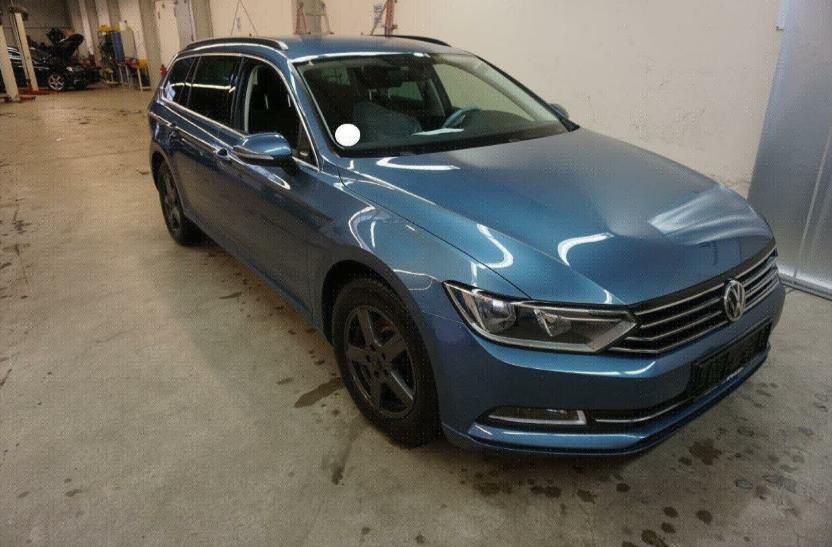Back-door: (165, 52, 240, 228)
Back-wheel: (157, 162, 197, 242)
Back-window: (189, 60, 237, 121), (164, 58, 193, 103)
Fender: (306, 171, 530, 334)
Front-bumper: (410, 282, 784, 458)
Front-door: (214, 54, 320, 307)
Front-wheel: (331, 281, 439, 444)
Front-window: (246, 68, 299, 153)
Grille: (598, 239, 780, 354)
Headlight: (446, 282, 636, 351)
Hood: (337, 127, 771, 303)
License-plate: (690, 322, 767, 397)
Mirror: (235, 131, 297, 173)
Quarter-panel: (149, 84, 177, 169)
Rocker-panel: (182, 206, 312, 323)
Roof: (177, 33, 472, 67)
Windshield: (294, 52, 566, 157)
